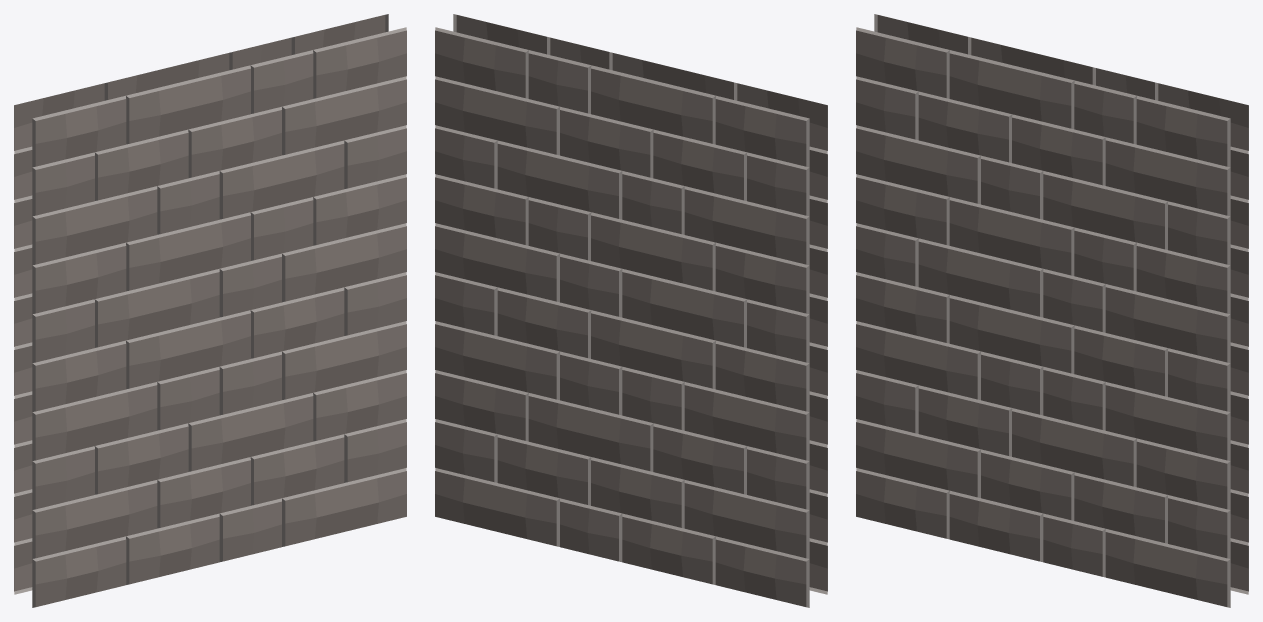
File: Wall_4.fbx
The picture shows the model from 3 angles, left to right: view 1: azimuth 30°, elevation 25°; view 2: azimuth 150°, elevation 25°; view 3: azimuth 330°, elevation 25°; orthographic projection.
Parts seen in each view (by area): view 1: Wall_4; view 2: Wall_4; view 3: Wall_4.
Part boxes in pixels (<box>): Wall_4: <box>14,14,406,607</box>; Wall_4: <box>435,14,827,607</box>; Wall_4: <box>856,14,1248,607</box>.
Bounding box in the file's own units: 2.4 × 0.28 × 3.
